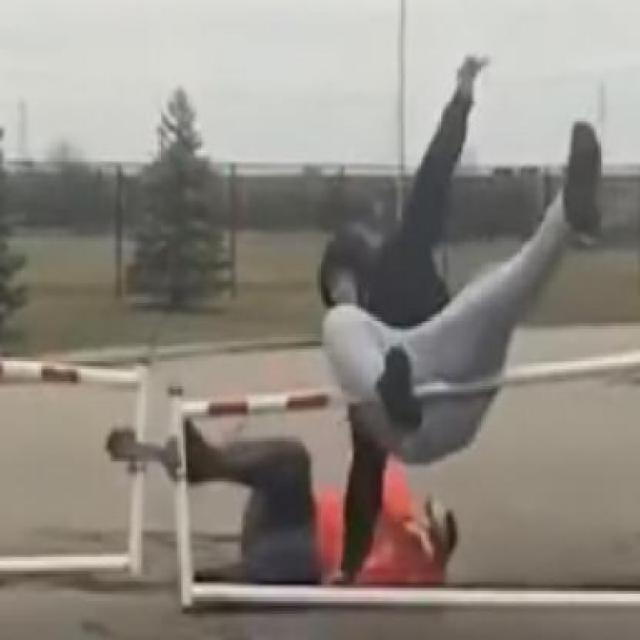fall: (326, 53, 608, 476), (123, 409, 452, 586)
